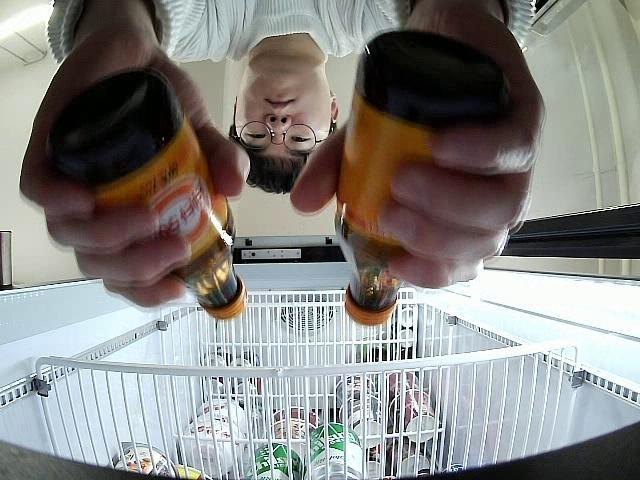17_vita500: (334, 29, 512, 327), (46, 67, 248, 321)
